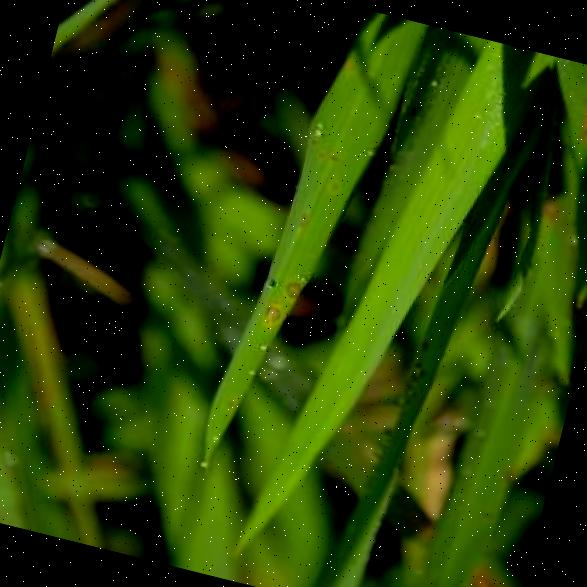Leaf_smut: (273, 258, 324, 312)
